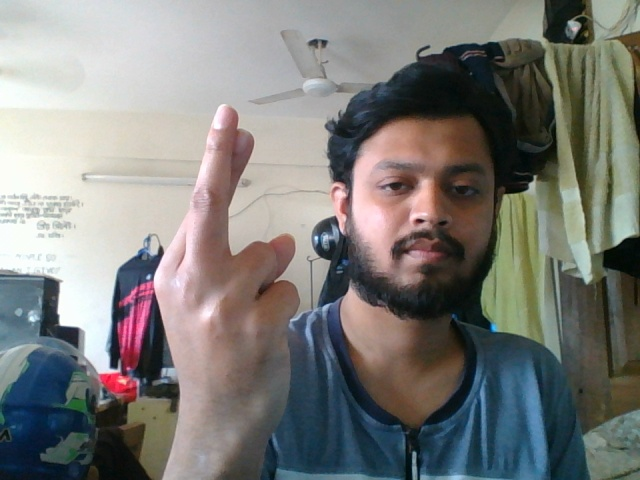r: (139, 99, 306, 470)
